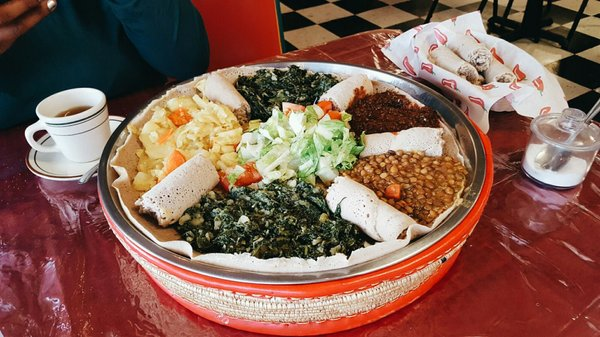curry: (167, 176, 367, 261), (235, 64, 340, 121)
pizza: (24, 87, 112, 180), (522, 107, 600, 189)
sushi: (63, 42, 493, 327)
